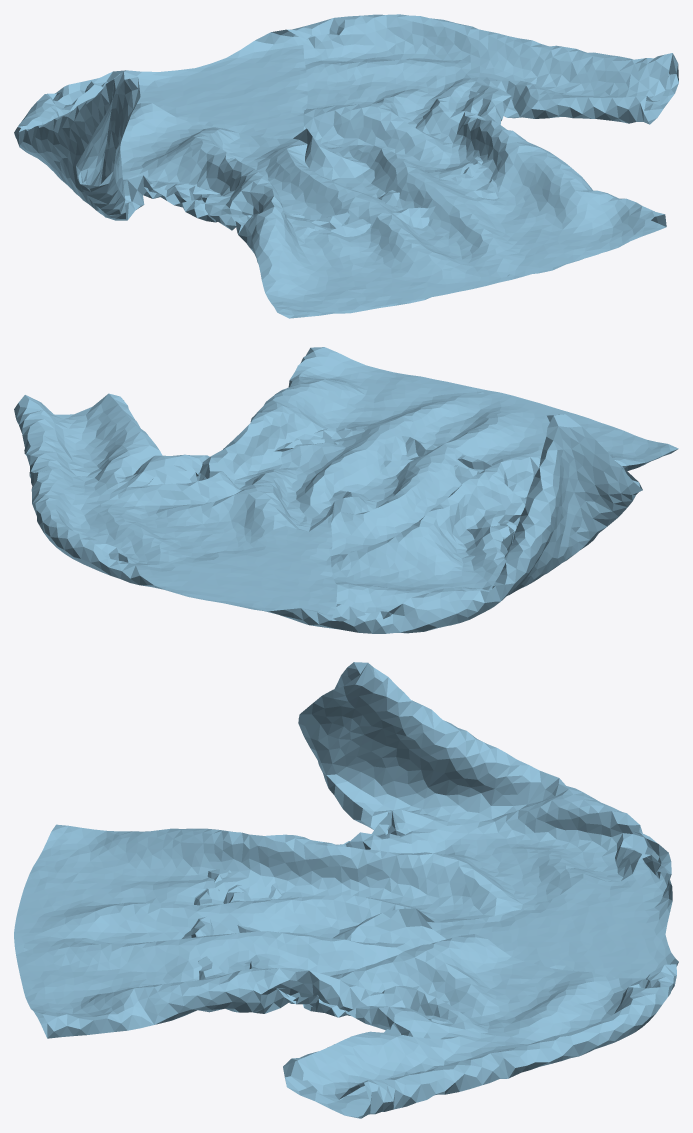
Rendered from frame_09.glb.
3 renders of one model, top to bottom at view 1: azimuth 30°, elevation 25°; view 2: azimuth 150°, elevation 25°; view 3: azimuth 270°, elevation 25°, orthographic. The views are drawn at different scales.
Visible parts, largest first — view 1: frame_09.obj; view 2: frame_09.obj; view 3: frame_09.obj.
Boxes of the visible parts, x1,y1,x2,y2 form: frame_09.obj: (14,14,678,318); frame_09.obj: (14,347,678,633); frame_09.obj: (14,662,678,1118).
Bounding box in the file's own units: 1.77 × 0.4116 × 1.48.
